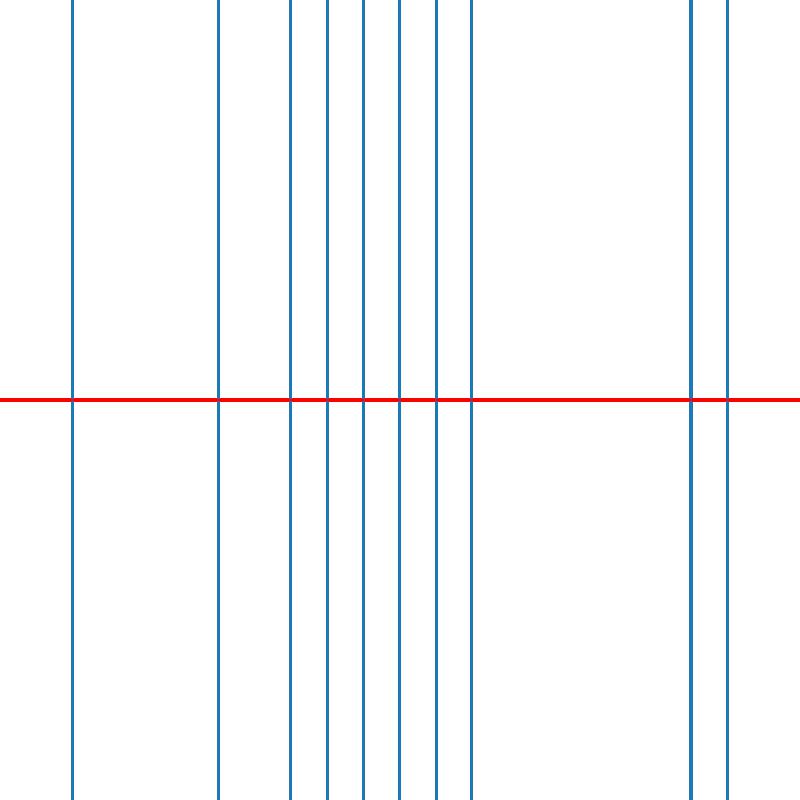root: (432, 396, 440, 404), (214, 396, 221, 404), (469, 396, 476, 404), (323, 396, 330, 404), (687, 396, 694, 404), (287, 396, 294, 404), (69, 396, 76, 404), (396, 396, 403, 404), (723, 396, 730, 404), (360, 396, 367, 404)
